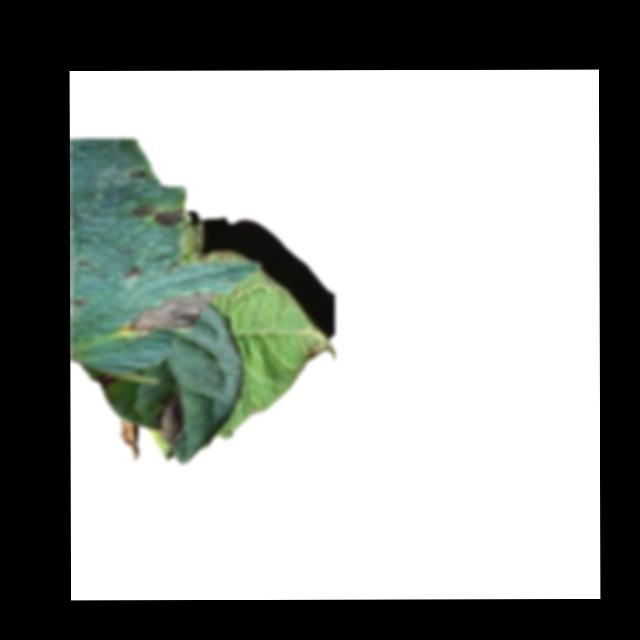Early_blight: (125, 288, 217, 332), (159, 392, 185, 443), (131, 203, 185, 225), (121, 419, 139, 462), (124, 264, 142, 280)
